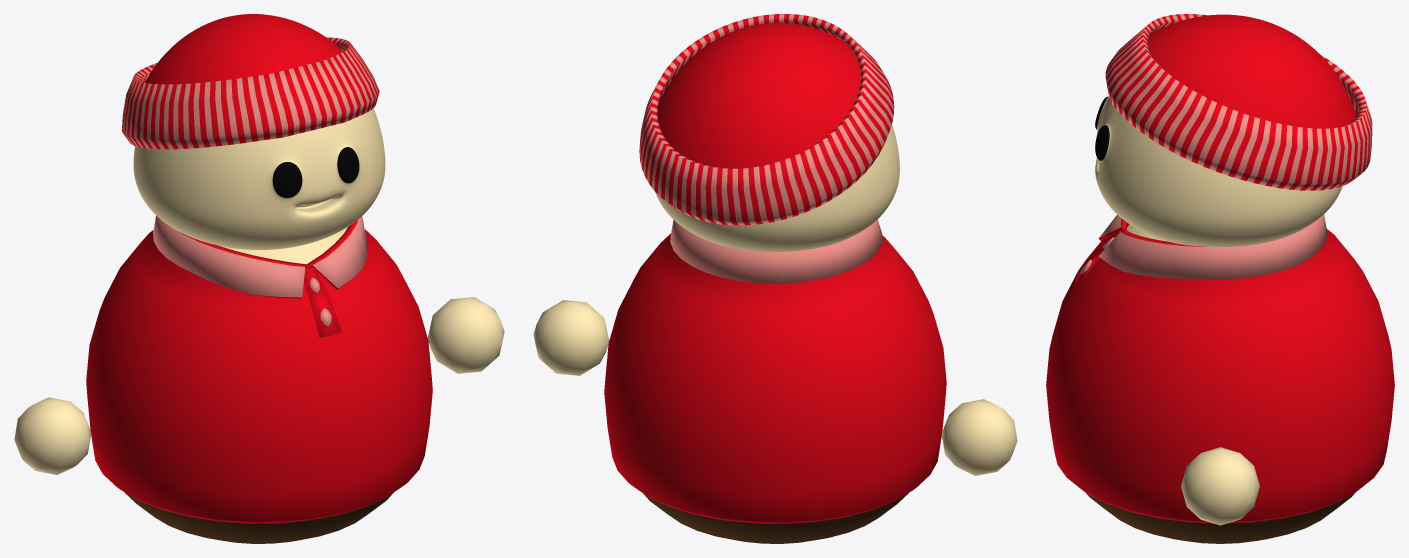
The picture shows the model from 3 angles, left to right: view 1: azimuth 30°, elevation 25°; view 2: azimuth 150°, elevation 25°; view 3: azimuth 270°, elevation 25°; orthographic projection.
Visible parts, largest first — view 1: Shirt, Head.001, Head, Torso, Hand Right, Hand Left; view 2: Shirt, Head.001, Head, Hand Right, Hand Left, Torso; view 3: Shirt, Head.001, Head, Hand Left, Torso.
Boxes of the visible parts, x1,y1,x2,y2 form: Shirt: [86, 215, 432, 523]; Head.001: [121, 14, 379, 149]; Head: [133, 108, 385, 249]; Torso: [124, 227, 393, 543]; Hand Right: [14, 397, 91, 474]; Hand Left: [427, 297, 504, 373]; Shirt: [604, 219, 946, 523]; Head.001: [639, 14, 894, 225]; Head: [655, 124, 899, 251]; Hand Right: [941, 399, 1017, 475]; Hand Left: [533, 300, 609, 375]; Torso: [643, 493, 908, 543]; Shirt: [1046, 214, 1394, 523]; Head.001: [1105, 14, 1372, 190]; Head: [1095, 96, 1342, 246]; Hand Left: [1181, 447, 1259, 525]; Torso: [1086, 224, 1354, 543].
Bounding box in the file's own units: 278 × 273 × 175.
